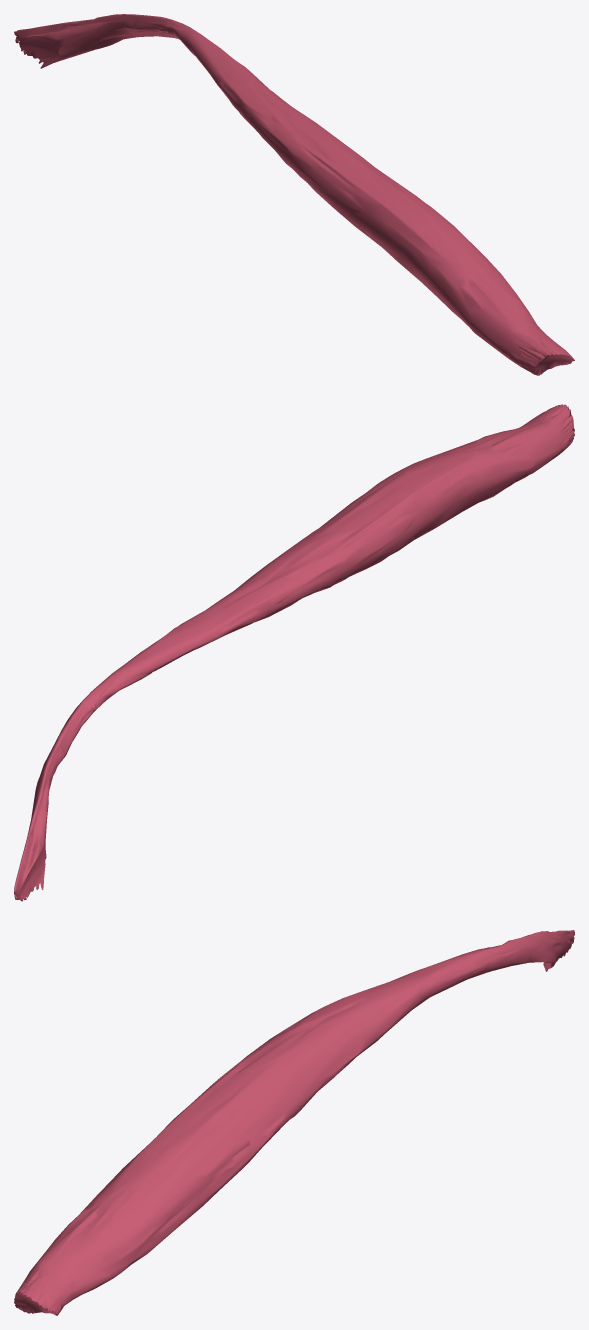
3 renders of one model, top to bottom at view 1: azimuth 30°, elevation 25°; view 2: azimuth 150°, elevation 25°; view 3: azimuth 330°, elevation 25°, orthographic. The views are drawn at different scales.
Parts seen in each view (by area): view 1: 右侧半腱肌; view 2: 右侧半腱肌; view 3: 右侧半腱肌.
Part boxes in pixels (box(x1,y1,x2,y2)): 右侧半腱肌: box(14, 14, 574, 375); 右侧半腱肌: box(14, 404, 574, 901); 右侧半腱肌: box(14, 930, 574, 1315).
Size of the model in its own units: 0.053 by 0.0858 by 0.6777.
